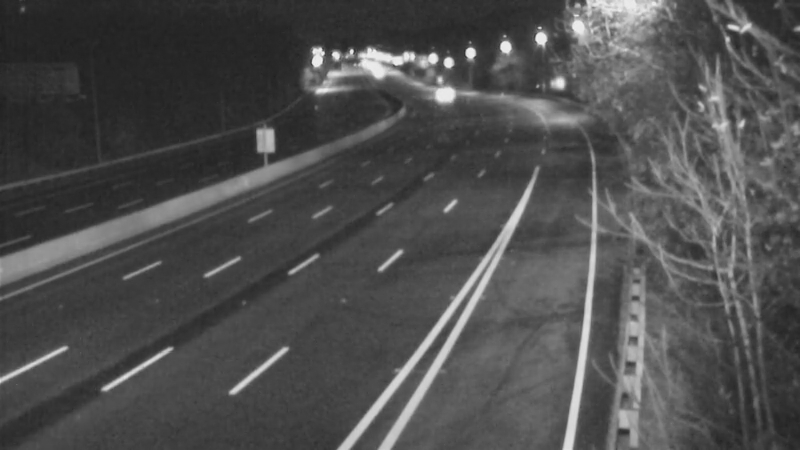vehicle: (421, 67, 471, 117)
